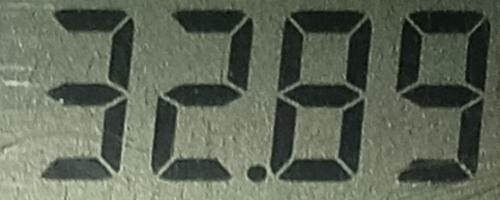.: (244, 162, 268, 184)
